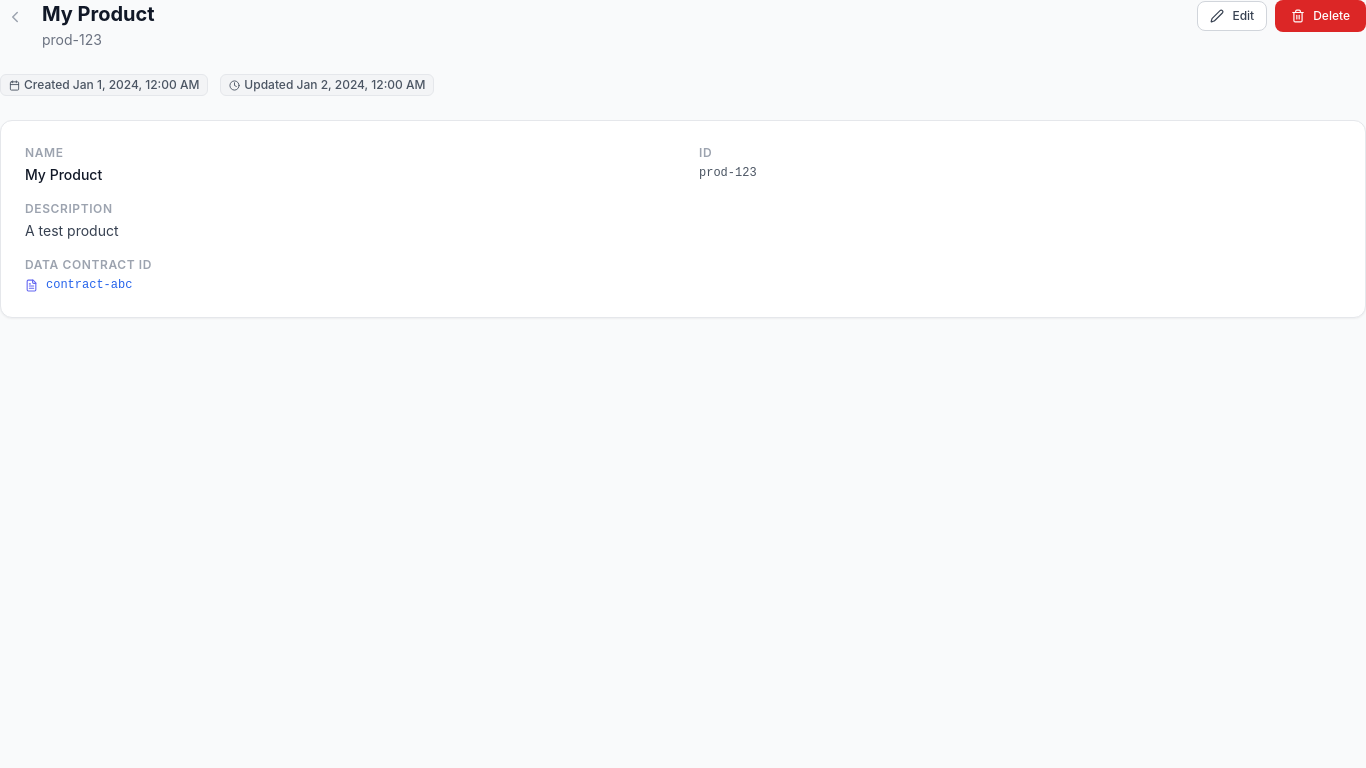
Test case: DataProductDetail — states & flows › renders the update error message inside the edit modal
The width and height of the screenshot is (1366, 768).
Click the button "Edit" at x=1232, y=16, box [1197,1,1267,31]
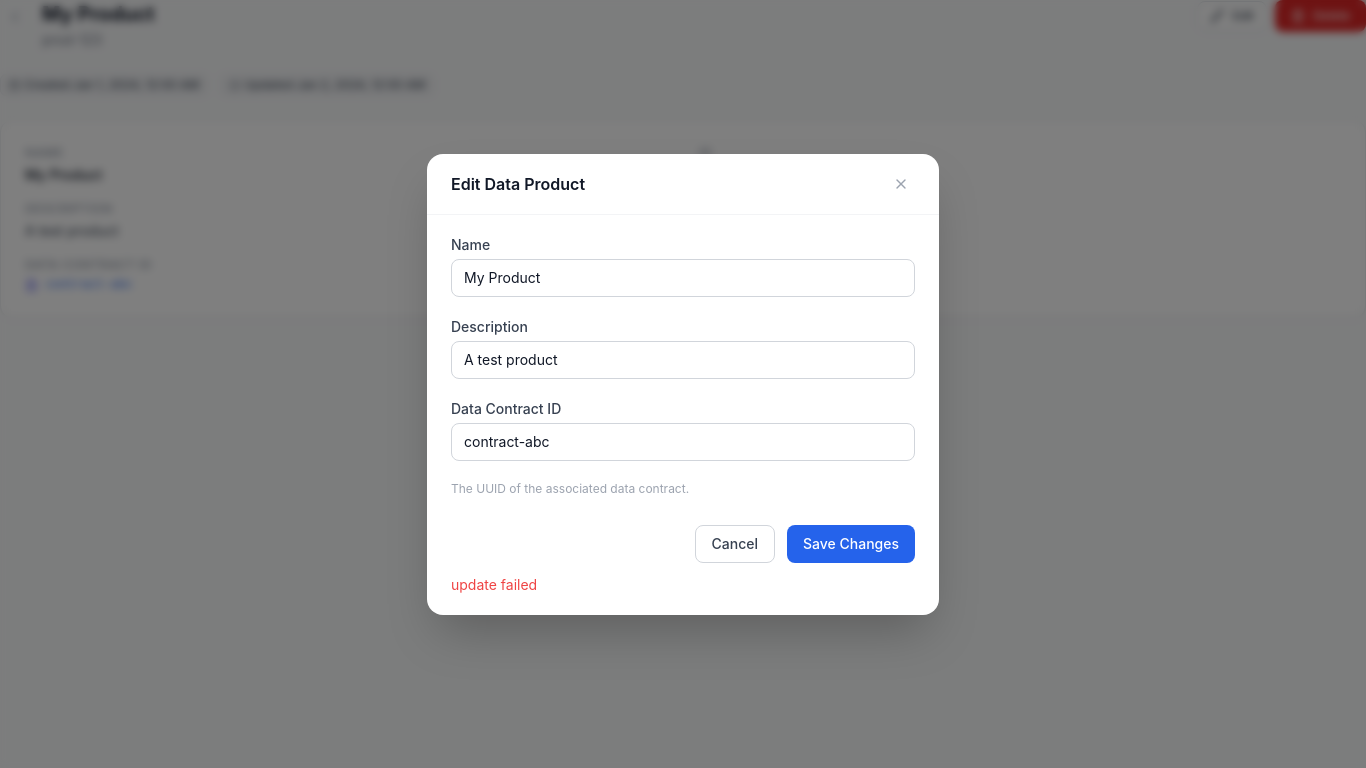
Expected: the text "update failed" is shown, [451,576,537,592]
